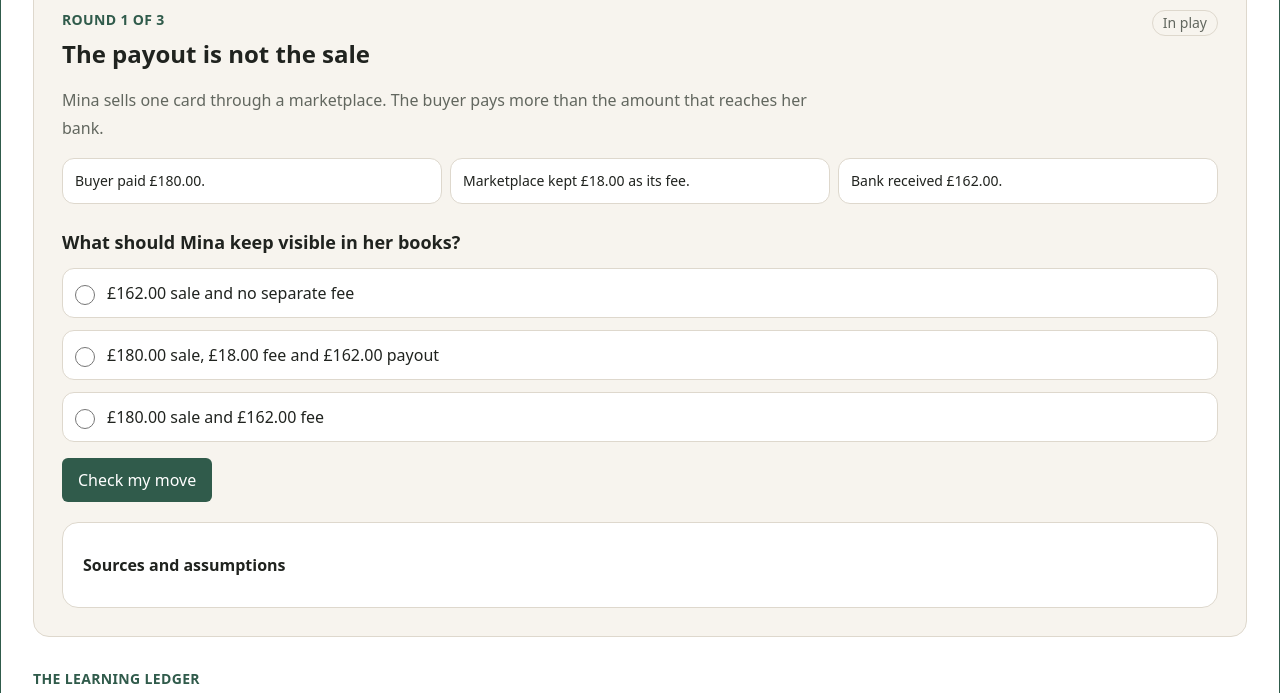
Test case: learning playground › keeps playing in memory when browser storage throws
The width and height of the screenshot is (1280, 693).
(page scrolled)
Click the radio button labelled "£180.00 sale, £18.00 fee and £162.00 payout" at (85, 357), box [75,347,95,367]
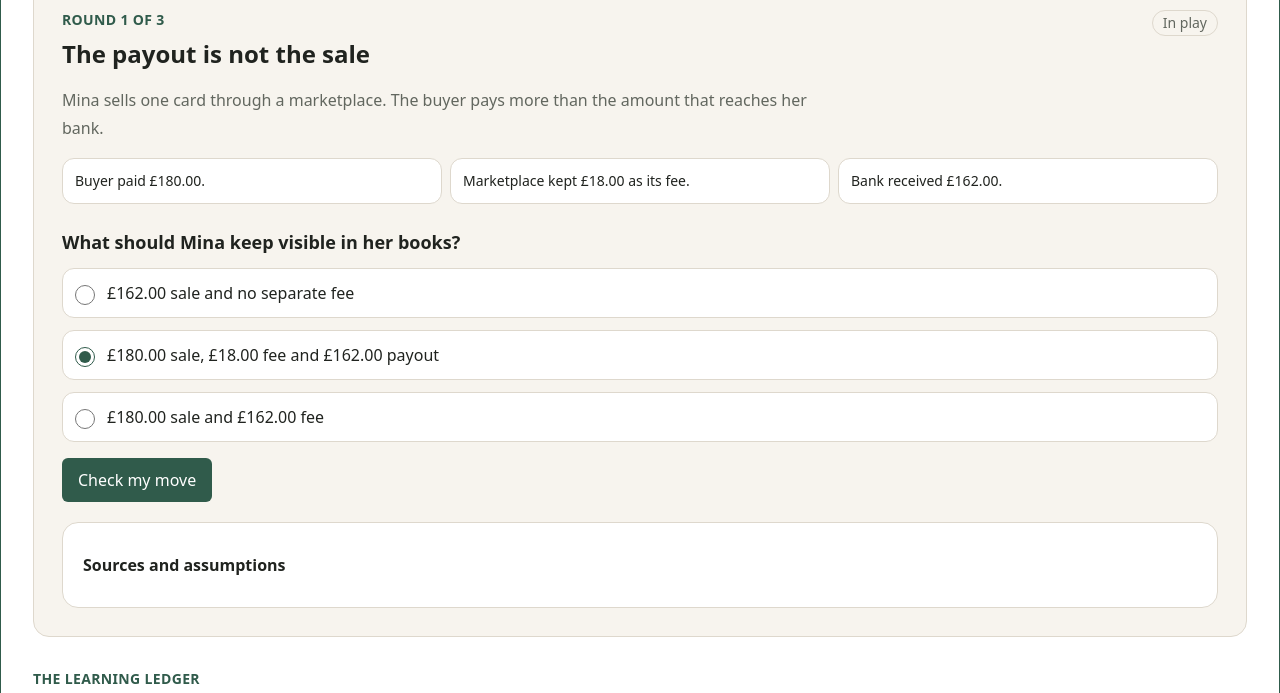
Click the button "Check my move" at (137, 480), box [62,458,212,502]
(page scrolled)
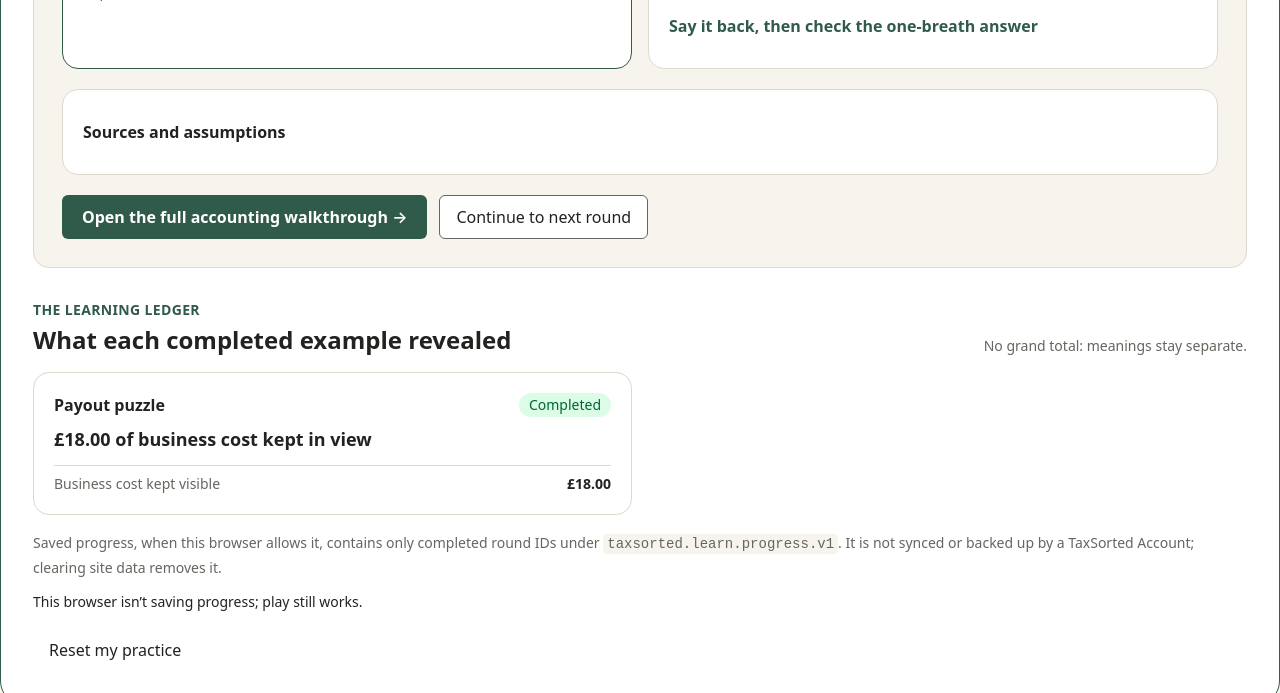
Now the text "This browser isn’t saving progress; play still works." is shown, box [33,592,363,611]
